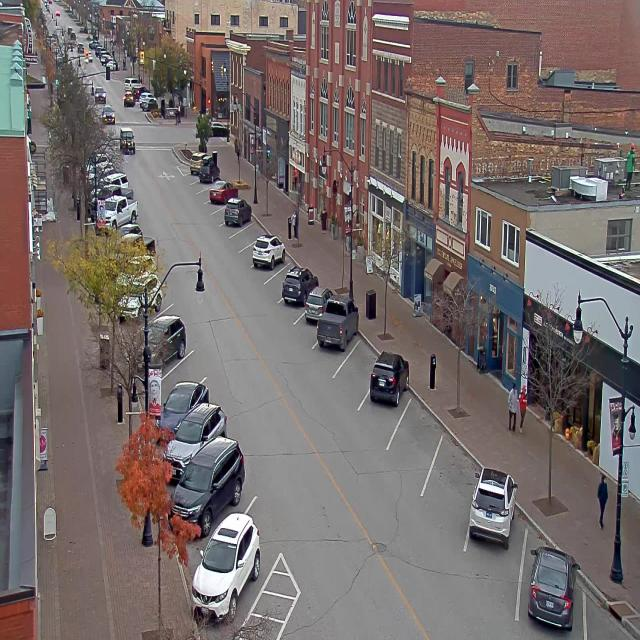available: (394, 387, 446, 468), (424, 435, 476, 513), (579, 588, 639, 639), (160, 340, 211, 389), (342, 332, 379, 390), (261, 262, 292, 300), (240, 212, 264, 245), (236, 241, 257, 271), (210, 202, 227, 226), (196, 183, 213, 204)
occupied: (186, 508, 276, 600), (169, 435, 245, 538), (526, 544, 580, 631), (468, 466, 517, 547), (170, 394, 235, 454), (155, 379, 209, 441), (316, 296, 358, 352), (368, 349, 409, 406), (142, 314, 187, 364), (282, 264, 318, 305), (252, 232, 285, 269), (224, 196, 251, 227), (303, 286, 325, 324), (209, 181, 236, 203), (198, 159, 220, 184), (189, 152, 208, 176)
